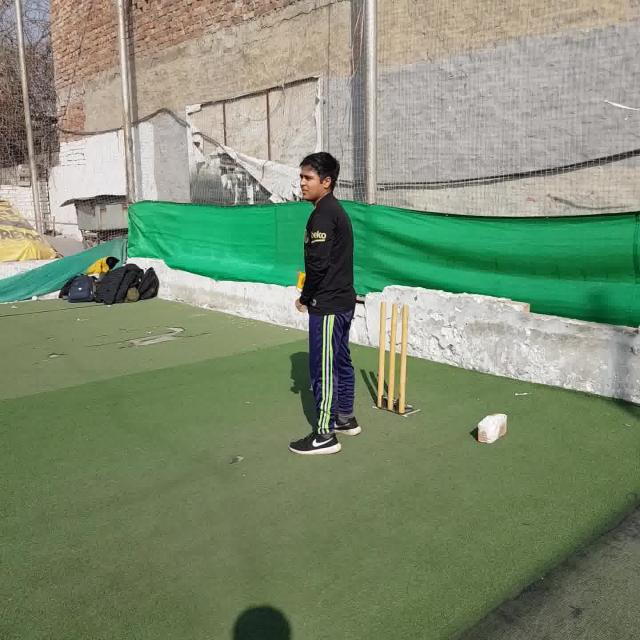ball: (32, 295, 38, 301)
bat: (298, 270, 306, 290)
